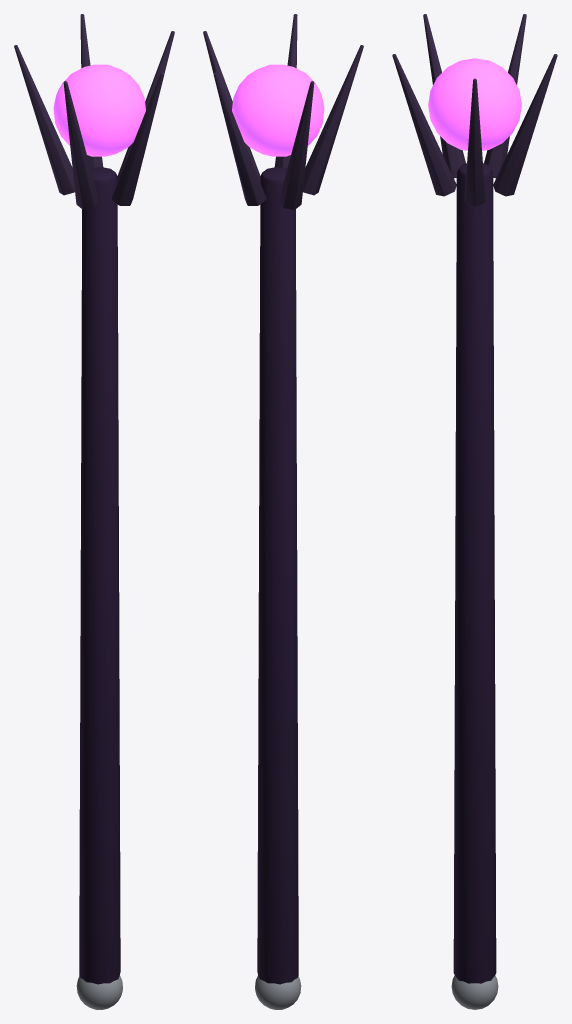
The model's file is abyssstaff.glb.
3 renders of one model, left to right at view 1: azimuth 30°, elevation 25°; view 2: azimuth 150°, elevation 25°; view 3: azimuth 270°, elevation 25°, orthographic.
Visible parts, largest first — view 1: wpn_abyssstaff; view 2: wpn_abyssstaff; view 3: wpn_abyssstaff.
Boxes of the visible parts, x1,y1,x2,y2 form: wpn_abyssstaff: (14, 14, 174, 1009); wpn_abyssstaff: (203, 14, 363, 1009); wpn_abyssstaff: (392, 14, 557, 1009).
Size of the model in its own units: 0.3688 by 2.5 by 0.3871.
